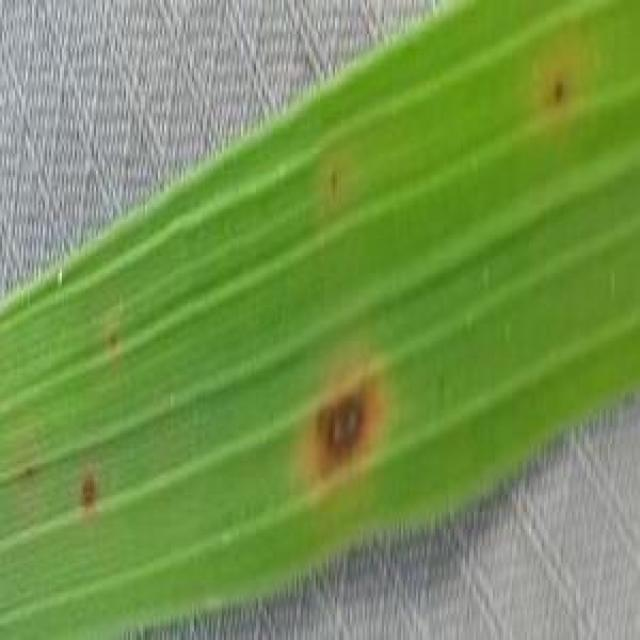Brown_Spot: (295, 370, 392, 487), (542, 63, 583, 118)
